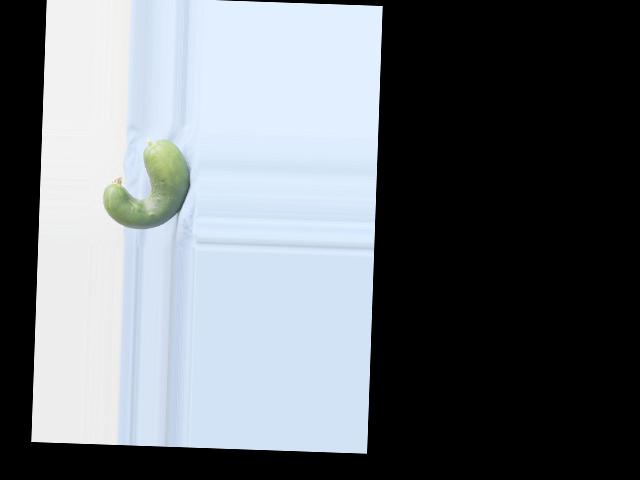cucumber: (102, 136, 191, 230)
